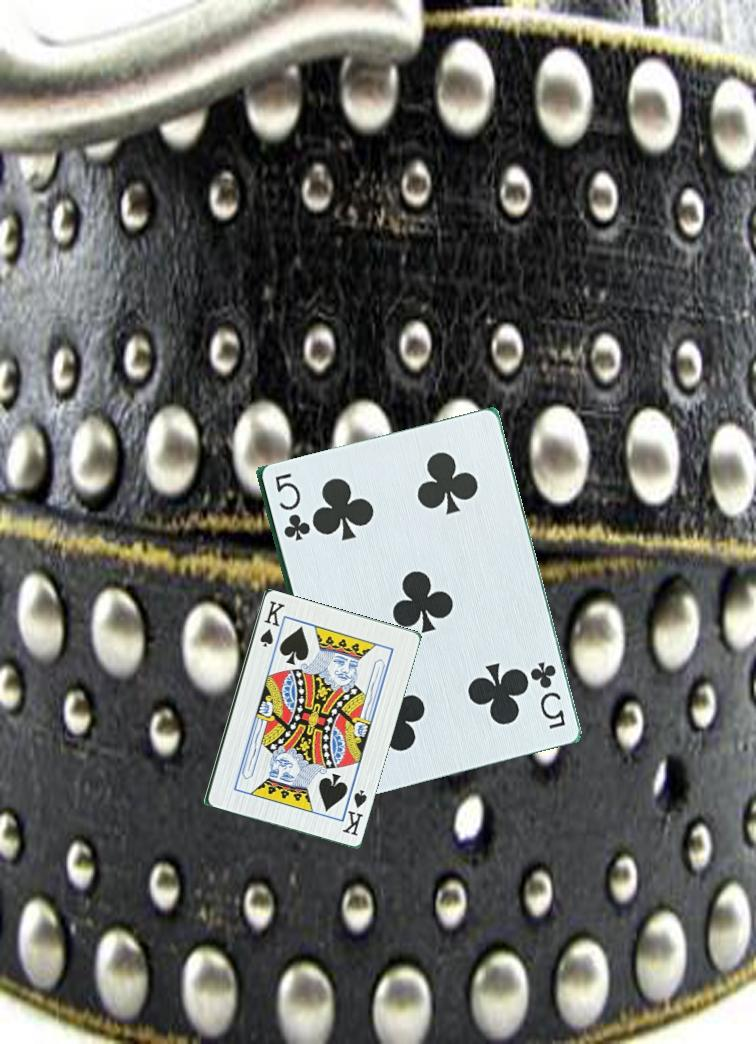5c: (527, 657, 569, 732), (272, 466, 311, 545)
ks: (337, 786, 370, 841), (256, 597, 287, 650)
